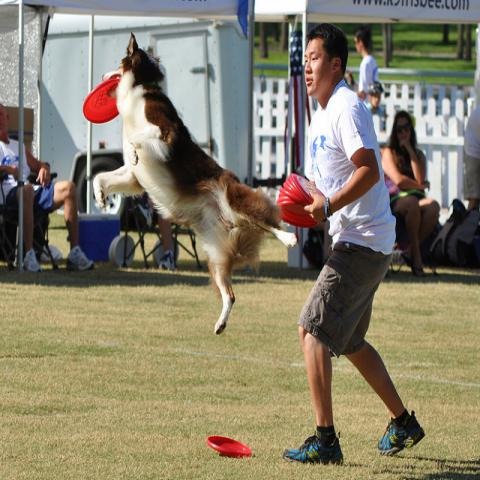truck: (39, 14, 251, 232)
